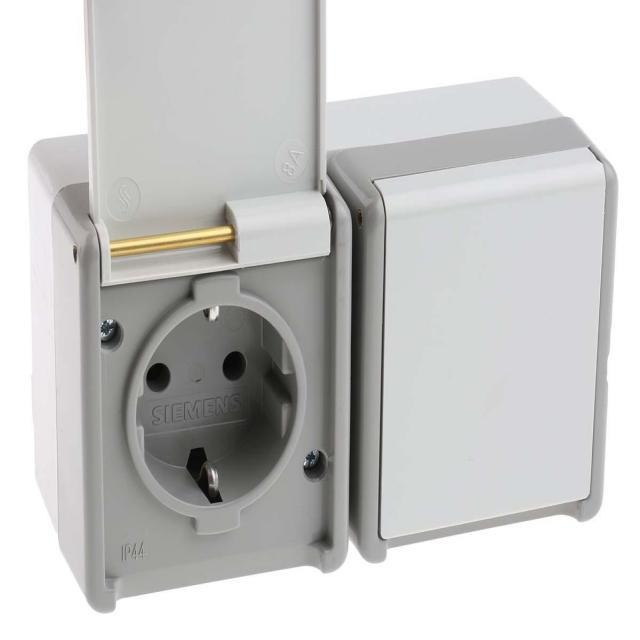typeb: (70, 217, 338, 594)
